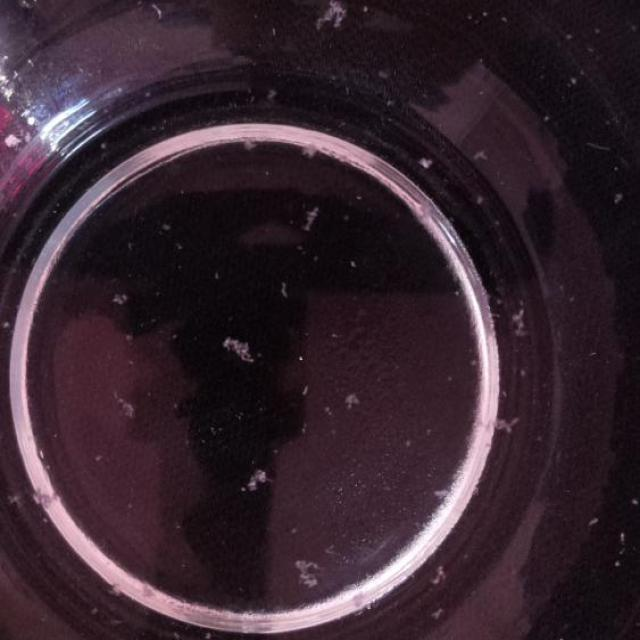fiber: (289, 547, 335, 598), (315, 0, 361, 41), (237, 459, 270, 500), (484, 409, 526, 440), (292, 200, 322, 241), (221, 335, 258, 367), (508, 298, 532, 347), (364, 57, 404, 85), (107, 390, 142, 420), (335, 390, 363, 420), (108, 282, 139, 308), (298, 137, 325, 166), (412, 149, 441, 175), (468, 185, 496, 211), (232, 130, 259, 155), (467, 144, 492, 168), (428, 559, 446, 591), (256, 84, 286, 102), (380, 91, 400, 118), (275, 276, 293, 306), (430, 479, 449, 505), (425, 604, 445, 624), (297, 378, 315, 400), (402, 430, 419, 453), (0, 298, 8, 325)
